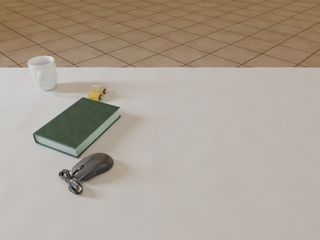book: (33, 97, 121, 158)
cup: (28, 56, 57, 90)
mouse: (59, 153, 113, 194)
toy_car: (88, 85, 106, 101)
